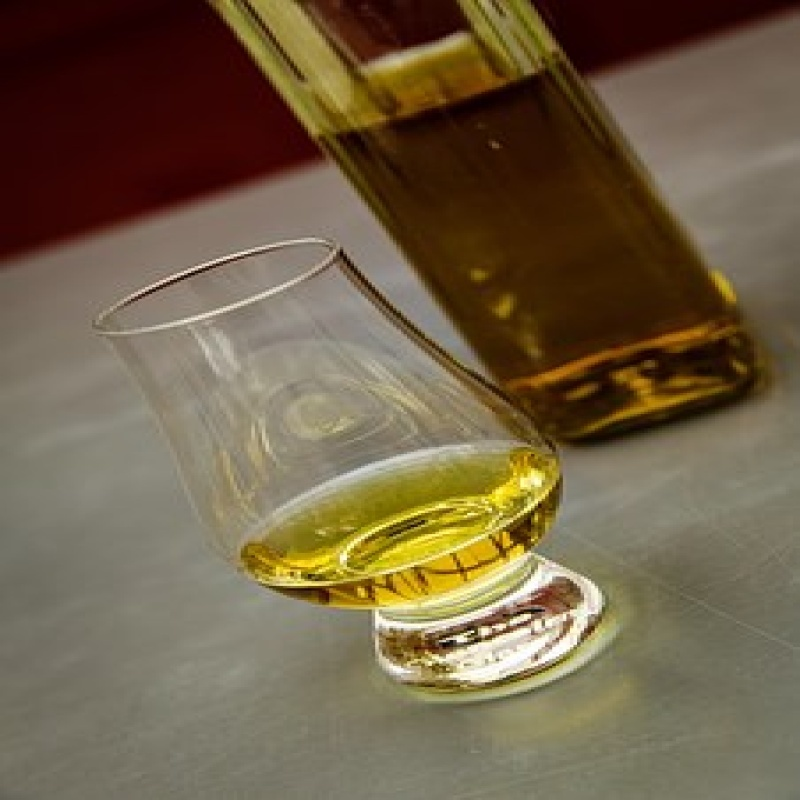whiskey: (103, 235, 575, 682)
